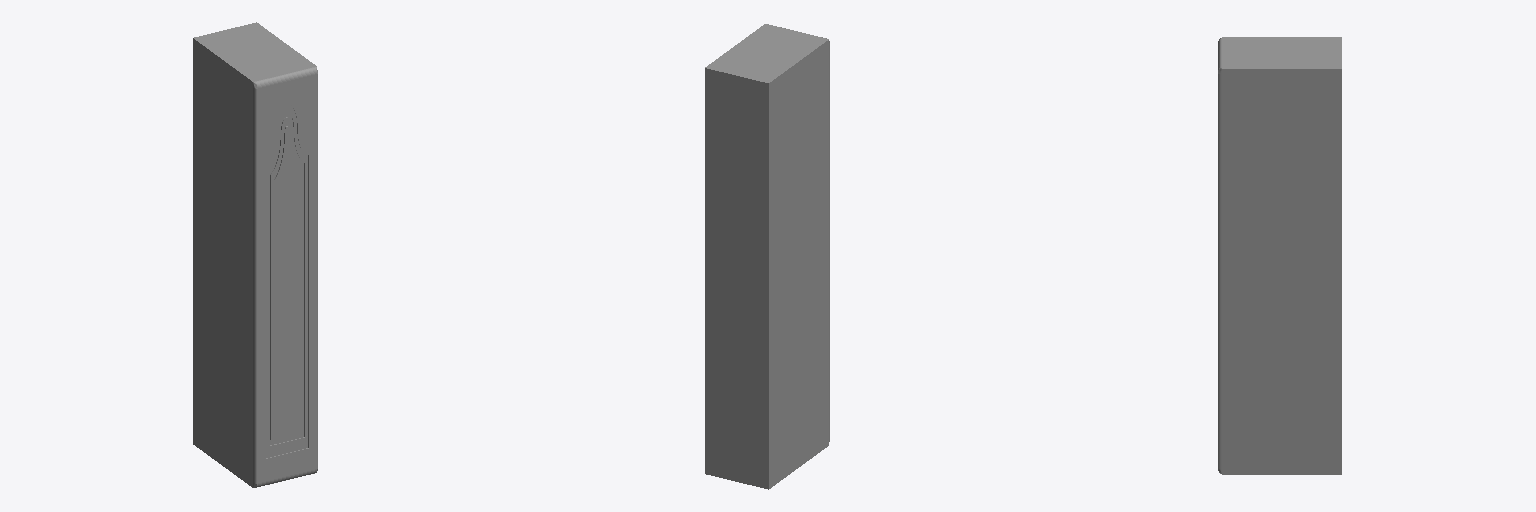
File: larder-unit-350.obj
The picture shows the model from 3 angles: view 1: azimuth 30°, elevation 25°; view 2: azimuth 150°, elevation 25°; view 3: azimuth 270°, elevation 25°; orthographic projection.
Parts seen in each view (by area): view 1: Cube.003_Cube.008, Cube.002_Cube.004, Cube_Cube.002; view 2: Cube_Cube.002, Cube.002_Cube.004, Cube.001_Cube.003; view 3: Cube.001_Cube.003, Cube_Cube.002, Cube.003_Cube.008.
Boxes of the visible parts, box(x1,y1,x2,y2) form: Cube.003_Cube.008: box(253, 67, 317, 487); Cube.002_Cube.004: box(193, 37, 254, 487); Cube_Cube.002: box(196, 23, 313, 80); Cube_Cube.002: box(708, 25, 824, 488); Cube.002_Cube.004: box(766, 39, 828, 489); Cube.001_Cube.003: box(705, 24, 767, 474); Cube.001_Cube.003: box(1222, 67, 1341, 474); Cube_Cube.002: box(1222, 39, 1341, 66); Cube.003_Cube.008: box(1218, 38, 1221, 473).
Size of the model in its own units: 70 by 424 by 118.